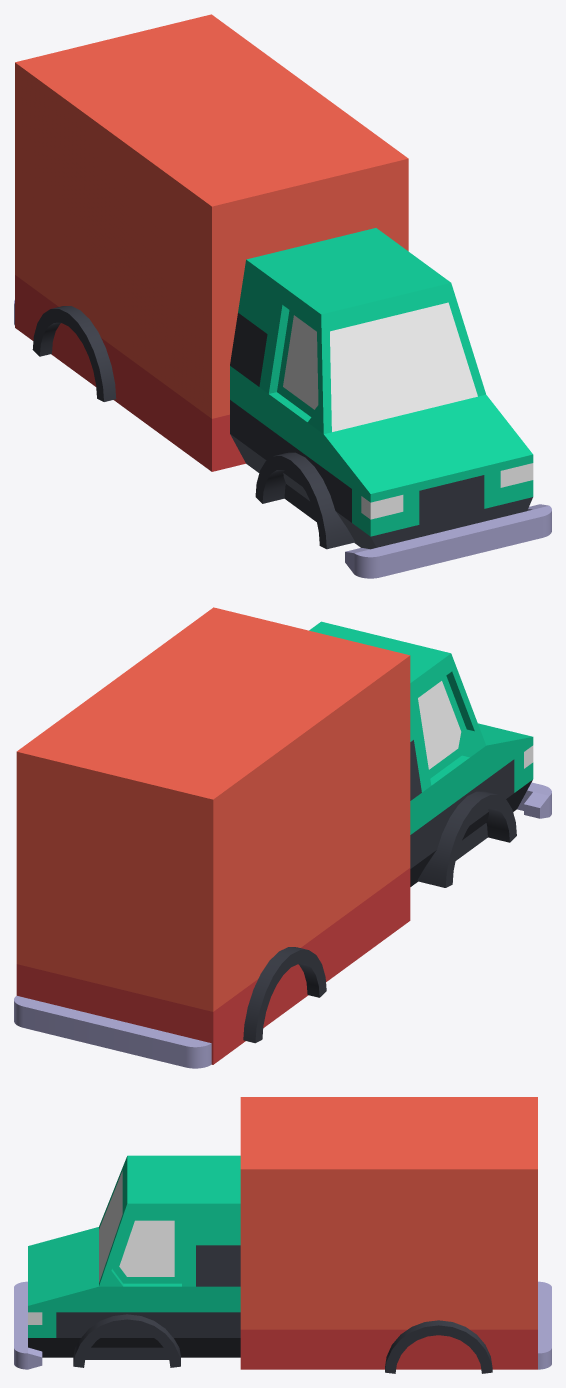
The model's file is truck.glb.
The picture shows the model from 3 angles, top to bottom: view 1: azimuth 30°, elevation 25°; view 2: azimuth 150°, elevation 25°; view 3: azimuth 270°, elevation 25°; orthographic projection. The views are drawn at different scales.
Visible parts, largest first — view 1: mergedBlocks(Clone); view 2: mergedBlocks(Clone); view 3: mergedBlocks(Clone).
Boxes of the visible parts, x1,y1,x2,y2 form: mergedBlocks(Clone): (14,14,551,578); mergedBlocks(Clone): (14,607,551,1068); mergedBlocks(Clone): (14,1097,551,1373).
Size of the model in its own units: 2.05 by 2.34 by 5.7.
